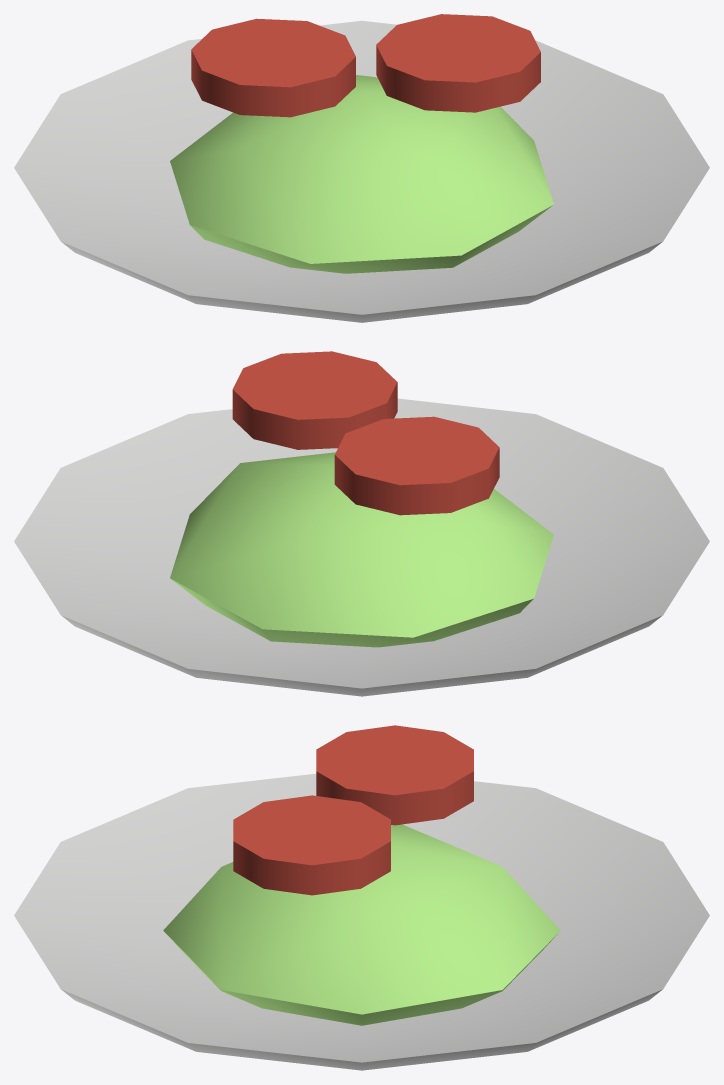
The model's file is kr_icon_salad.glb.
3 views of the same model, one above another, from view 1: azimuth 30°, elevation 25°; view 2: azimuth 150°, elevation 25°; view 3: azimuth 270°, elevation 25° (orthographic).
Visible parts, largest first — view 1: vc_m0_r2, vc_m0_r4; view 2: vc_m0_r2, vc_m0_r4; view 3: vc_m0_r2, vc_m0_r4.
Part boxes in pixels (x1,y1,x2,y2): vc_m0_r2: [14, 14, 709, 322]; vc_m0_r4: [170, 75, 553, 273]; vc_m0_r2: [14, 351, 709, 696]; vc_m0_r4: [170, 452, 553, 647]; vc_m0_r2: [14, 725, 709, 1070]; vc_m0_r4: [163, 824, 560, 1025].
Size of the model in its own units: 0.42 by 0.15 by 0.42.
